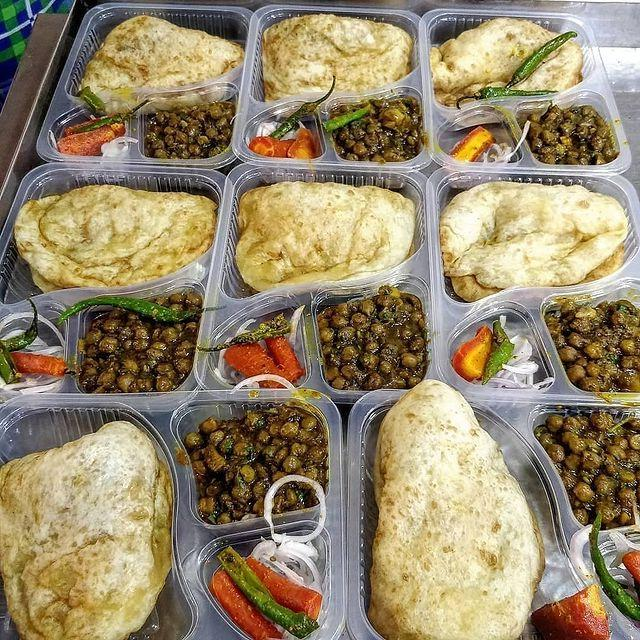Chole: (197, 406, 321, 516), (318, 288, 432, 400), (80, 294, 204, 395), (556, 411, 636, 524), (554, 291, 638, 397), (333, 92, 423, 172), (526, 96, 621, 171), (146, 94, 234, 164)
